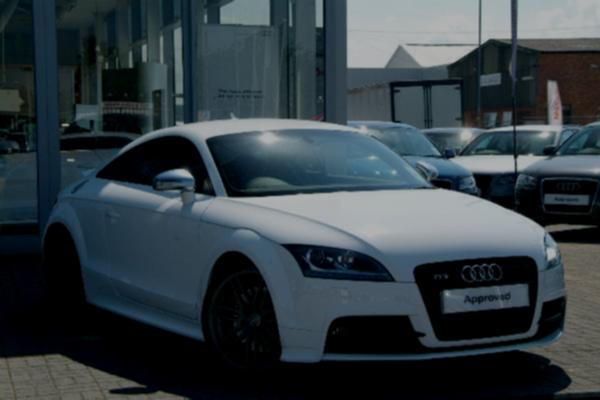Audi: (454, 259, 510, 286), (553, 180, 584, 193)
